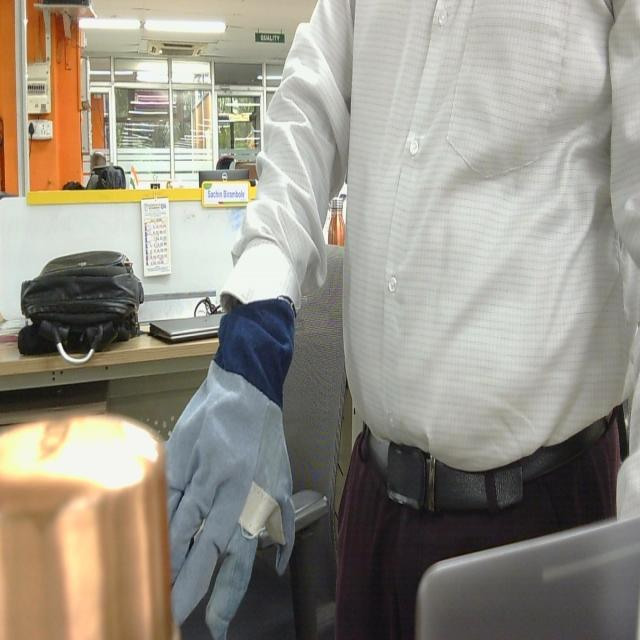Gloves-Detection: (167, 304, 296, 638)
